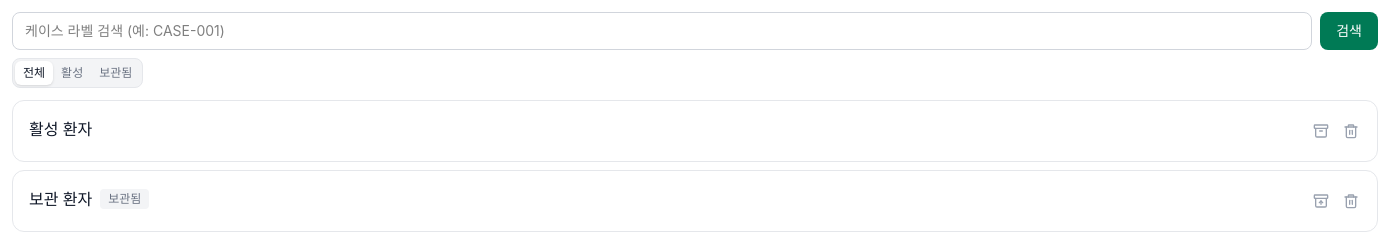
Test: 환자 목록 보관 상태 필터 › 기본은 status 없이 전체를 조회하고, 세그먼트 선택 시 해당 status로 재조회한다
Expected: the button "활성 환자" is shown, [13,101,1307,161]
Expected: the button "보관 환자 보관됨" is shown, [13,171,1307,231]
Click the button "보관됨" at (116, 73), box [91,61,140,85]
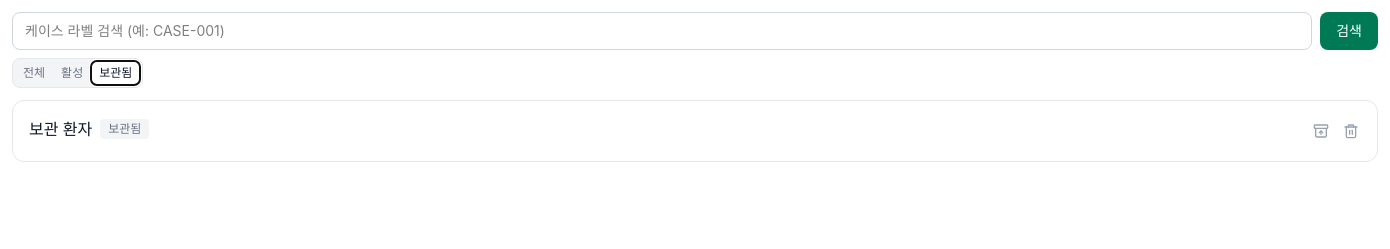
Expected: the button "활성 환자" is gone
Click the button "활성" at (72, 73), box [53,61,91,85]
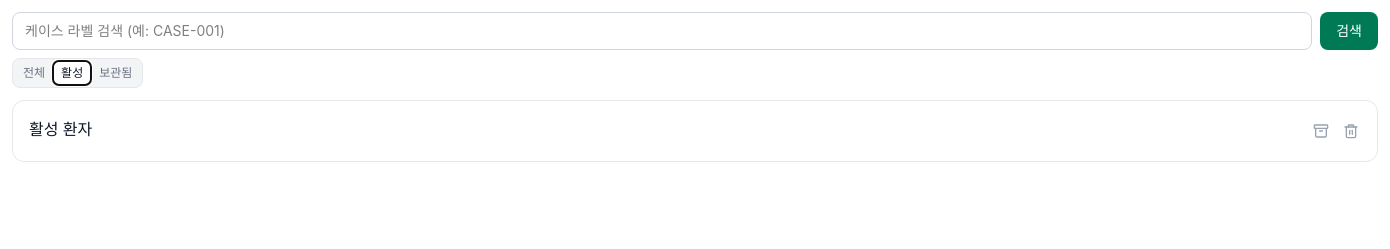
Expected: the button "보관 환자" is gone
